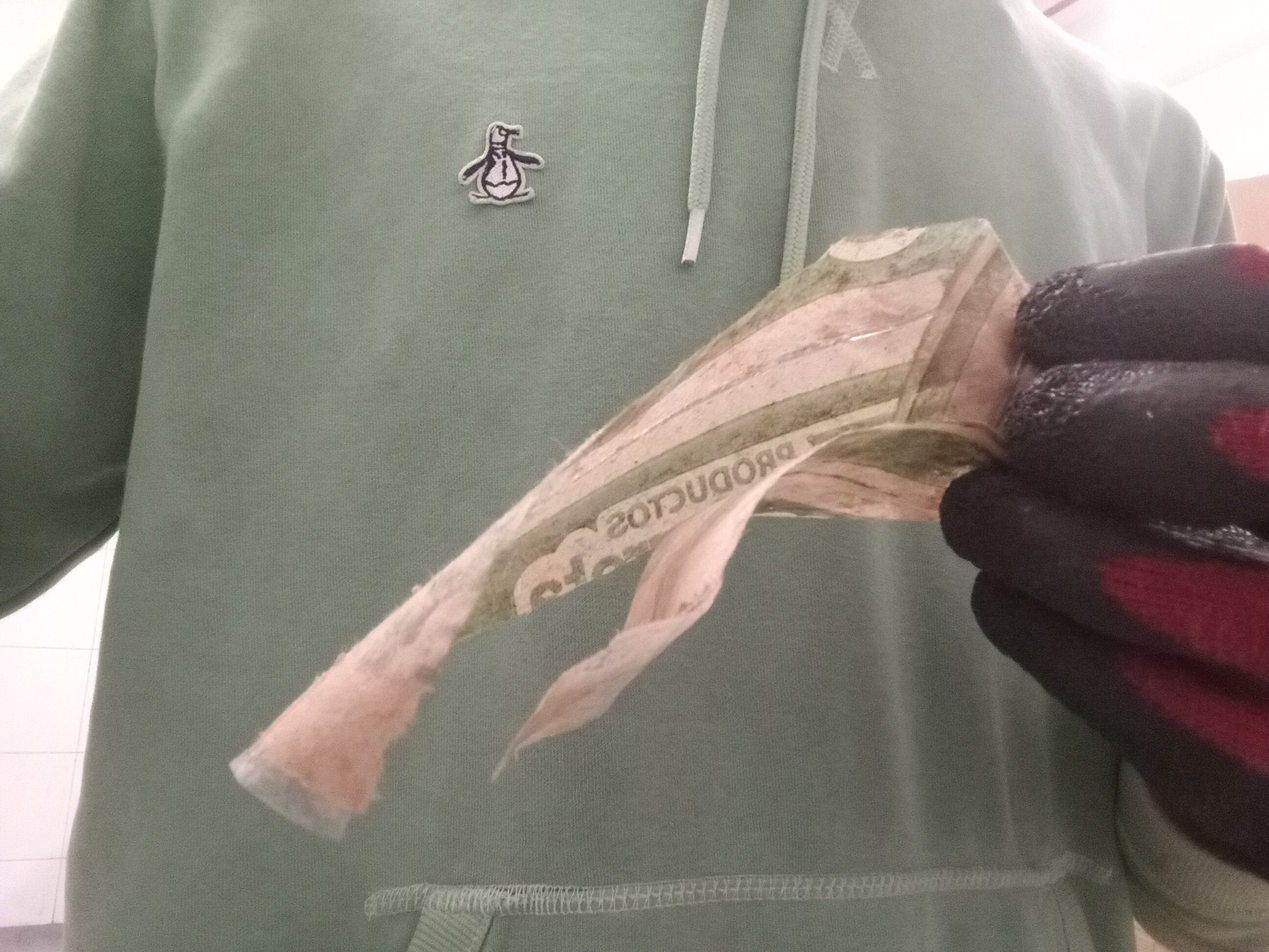Ordinario: (228, 218, 1041, 843)
